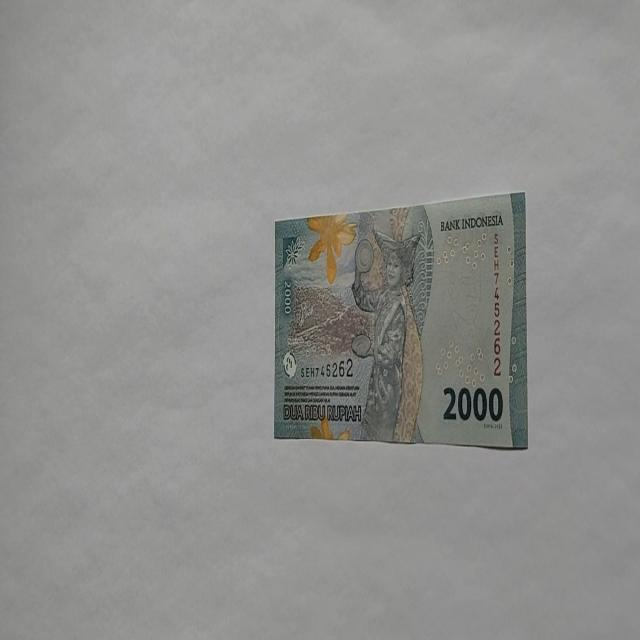dua ribu rupiah: (272, 189, 528, 449), (350, 223, 424, 443), (306, 212, 358, 286)
